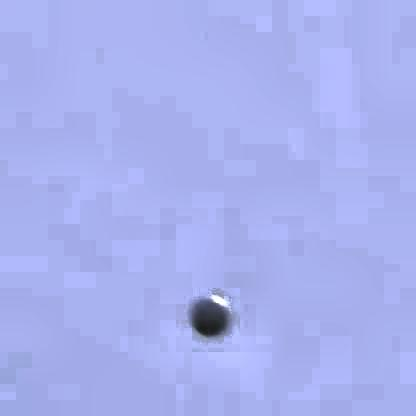golfball: (186, 295, 228, 334)
